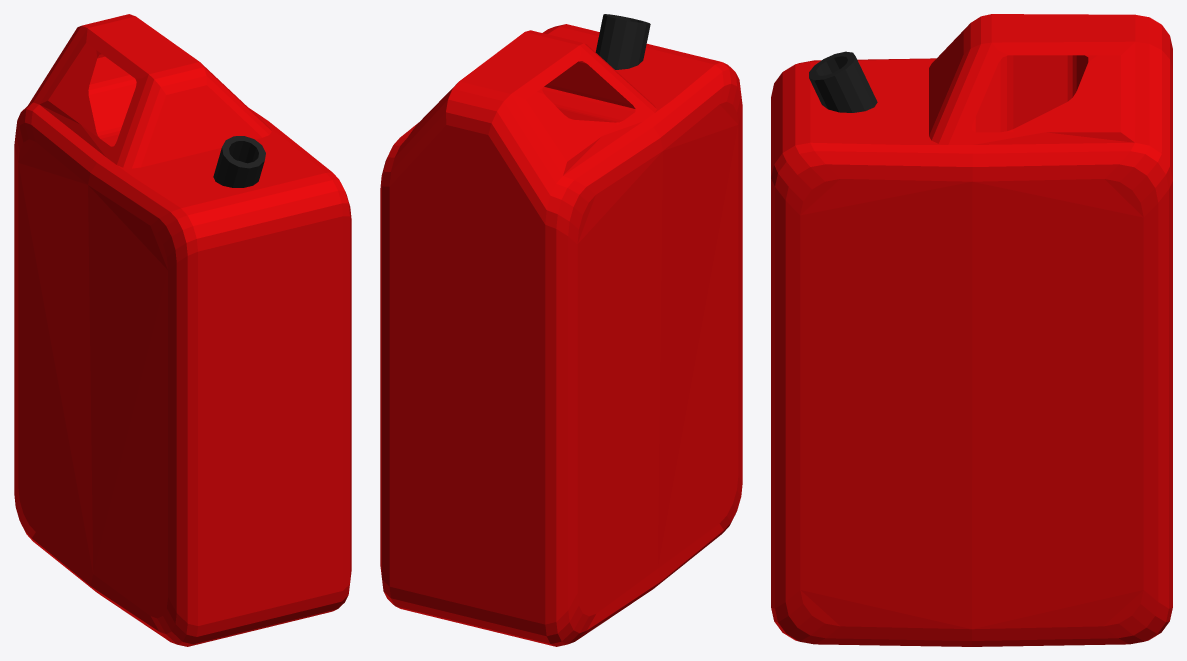
The model's file is gasContainer.fbx.
3 views of the same model, side by side, from view 1: azimuth 30°, elevation 25°; view 2: azimuth 150°, elevation 25°; view 3: azimuth 270°, elevation 25° (orthographic). The views are drawn at different scales.
Visible parts, largest first — view 1: Cube; view 2: Cube; view 3: Cube.
Boxes of the visible parts, x1,y1,x2,y2 form: Cube: (14, 14, 351, 646); Cube: (380, 14, 742, 646); Cube: (771, 14, 1172, 646).
Size of the model in its own units: 125 by 315 by 200.
